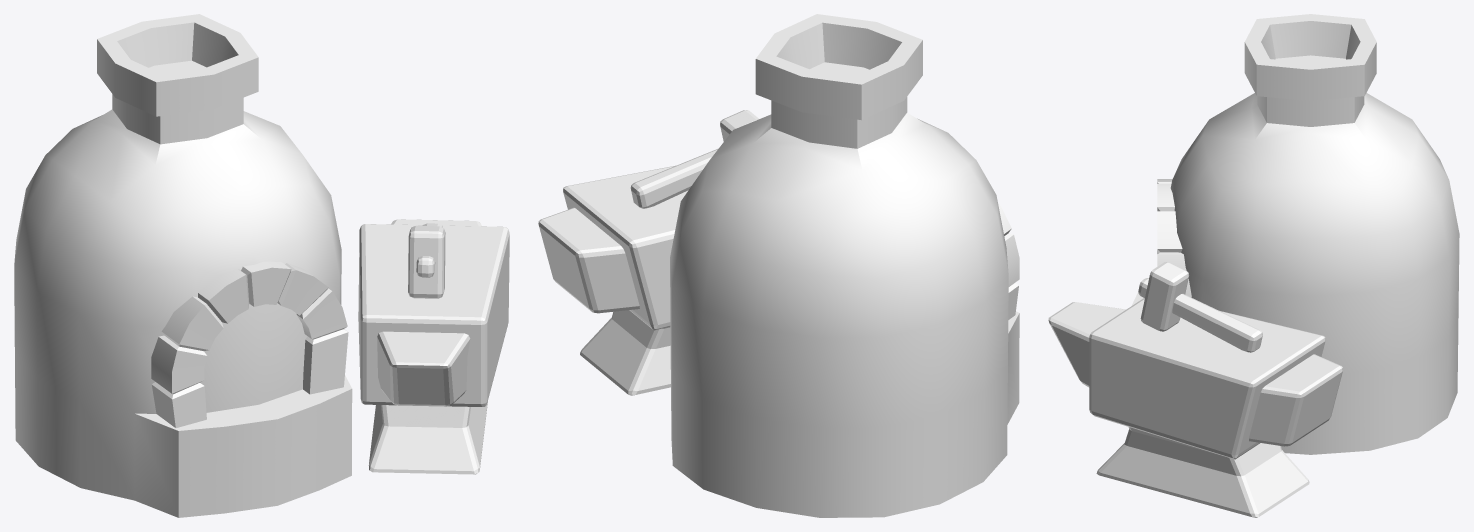
The model's file is Building_lab_01.fbx.
3 views of the same model, side by side, from view 1: azimuth 30°, elevation 25°; view 2: azimuth 150°, elevation 25°; view 3: azimuth 270°, elevation 25° (orthographic). The views are drawn at different scales.
Visible parts, largest first — view 1: building_lab_01; view 2: building_lab_01; view 3: building_lab_01.
Boxes of the visible parts, <box> form: building_lab_01: <box>14,14,509,517</box>; building_lab_01: <box>538,14,1019,517</box>; building_lab_01: <box>1048,14,1459,517</box>.
Size of the model in its own units: 2.62 by 2.19 by 2.32.
